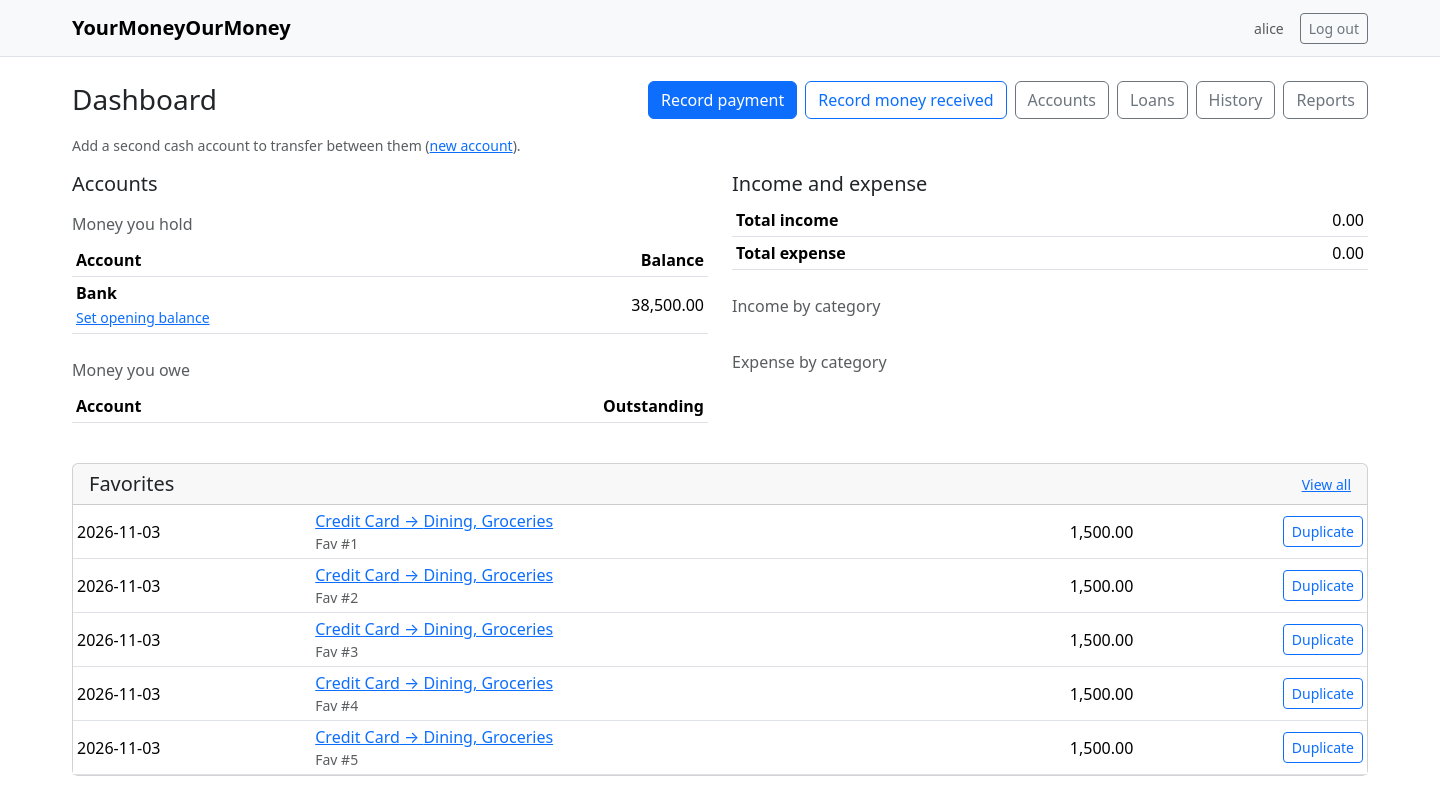
Test: FavoriteToggle, FavoritesCard, and History favorite filter (T-FAV-UI-03) › shows up to 5 favorites on the Dashboard Favorites card and Duplicate opens the prefilled form
Click the button "Duplicate" in the row of "Fav #1" at (1323, 532), box [1283,516,1363,547]
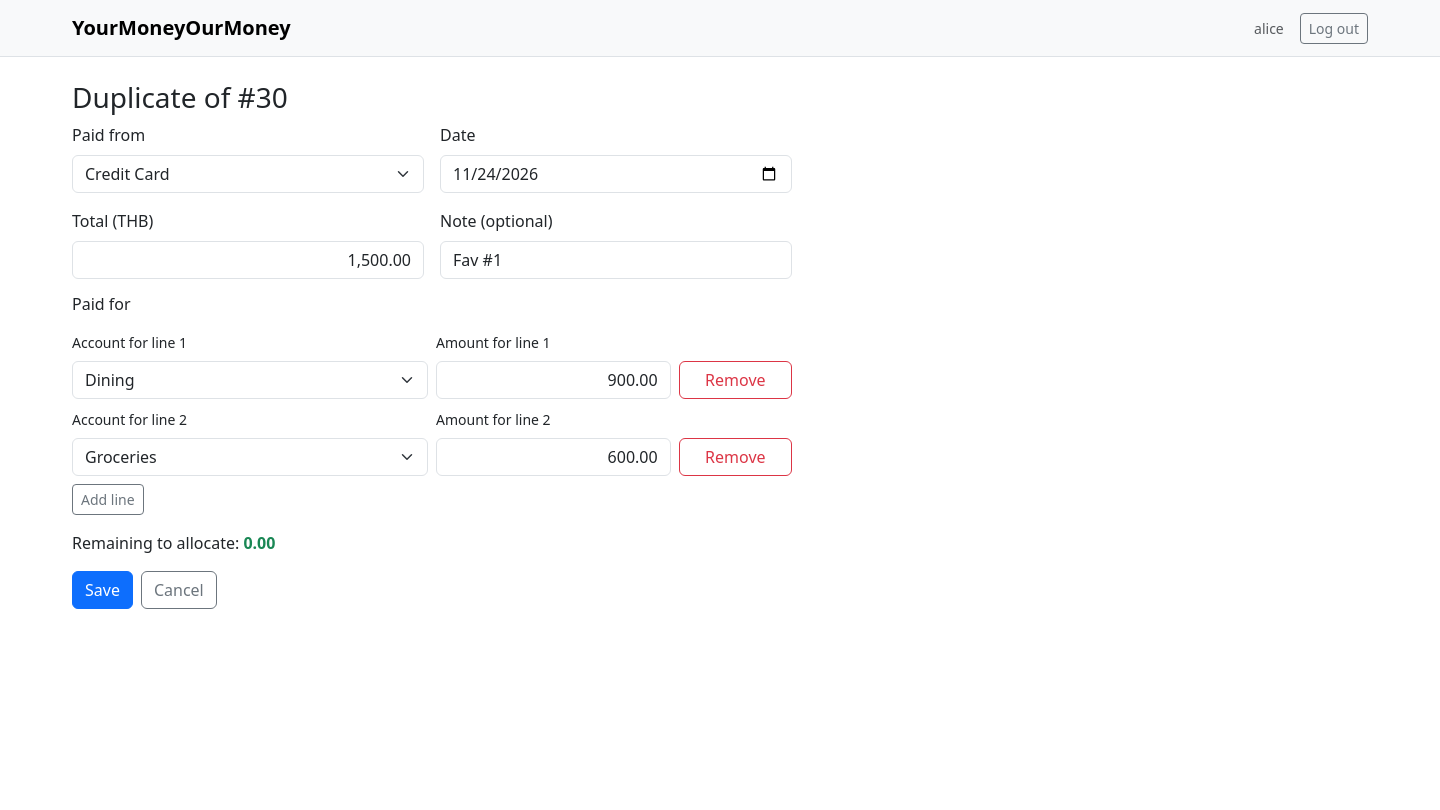
Now the heading "Duplicate of #30" is shown, box [72,78,288,116]
